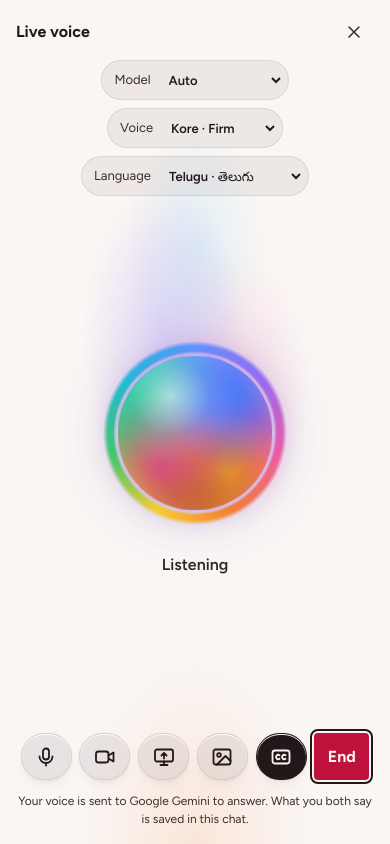
Scenario: Live voice: model, voice and language pickers, captions › the captions button hides and shows what is said, and is remembered
What coordinates should you click on to do the following:
click the button named "Captions"
I would click on:
 (281, 757)
Its box is x1=256 y1=733 x2=306 y2=780.
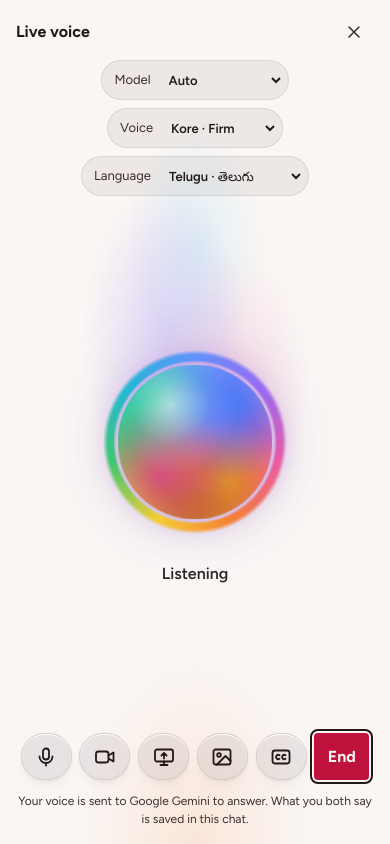
Check: the button named "Captions" is not pressed, box x1=256 y1=733 x2=306 y2=780
